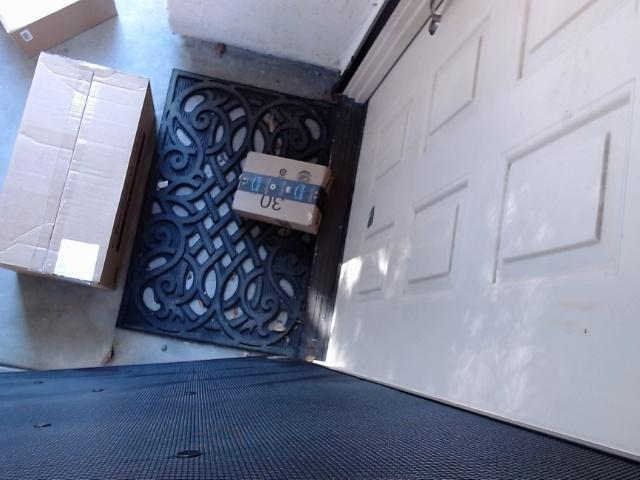box: (1, 47, 161, 311), (212, 125, 334, 270), (0, 0, 143, 65)
